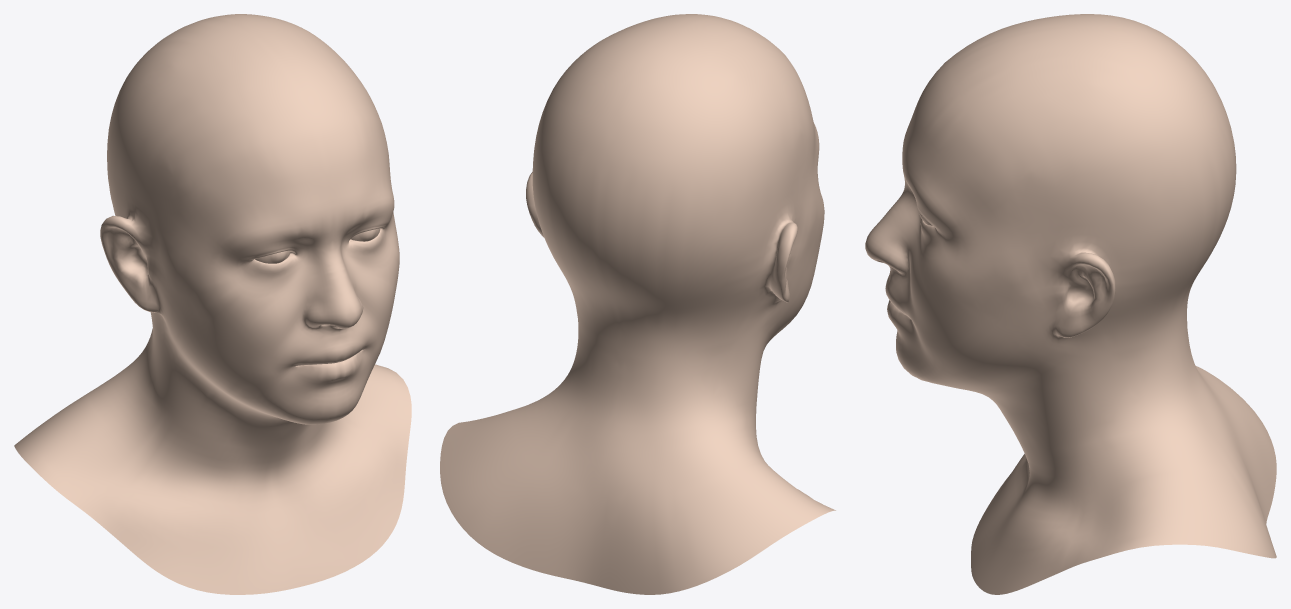
Rendered from gnm_head.glb.
The picture shows the model from 3 angles, left to right: view 1: azimuth 30°, elevation 25°; view 2: azimuth 150°, elevation 25°; view 3: azimuth 270°, elevation 25°; orthographic projection. The views are drawn at different scales.
Visible parts, largest first — view 1: GNM_HEAD; view 2: GNM_HEAD; view 3: GNM_HEAD.
Boxes of the visible parts, box(x1,y1,x2,y2) form: GNM_HEAD: box(14, 14, 411, 594); GNM_HEAD: box(440, 14, 835, 594); GNM_HEAD: box(865, 14, 1276, 594).
Size of the model in its own units: 0.2554 by 0.3415 by 0.2387.
